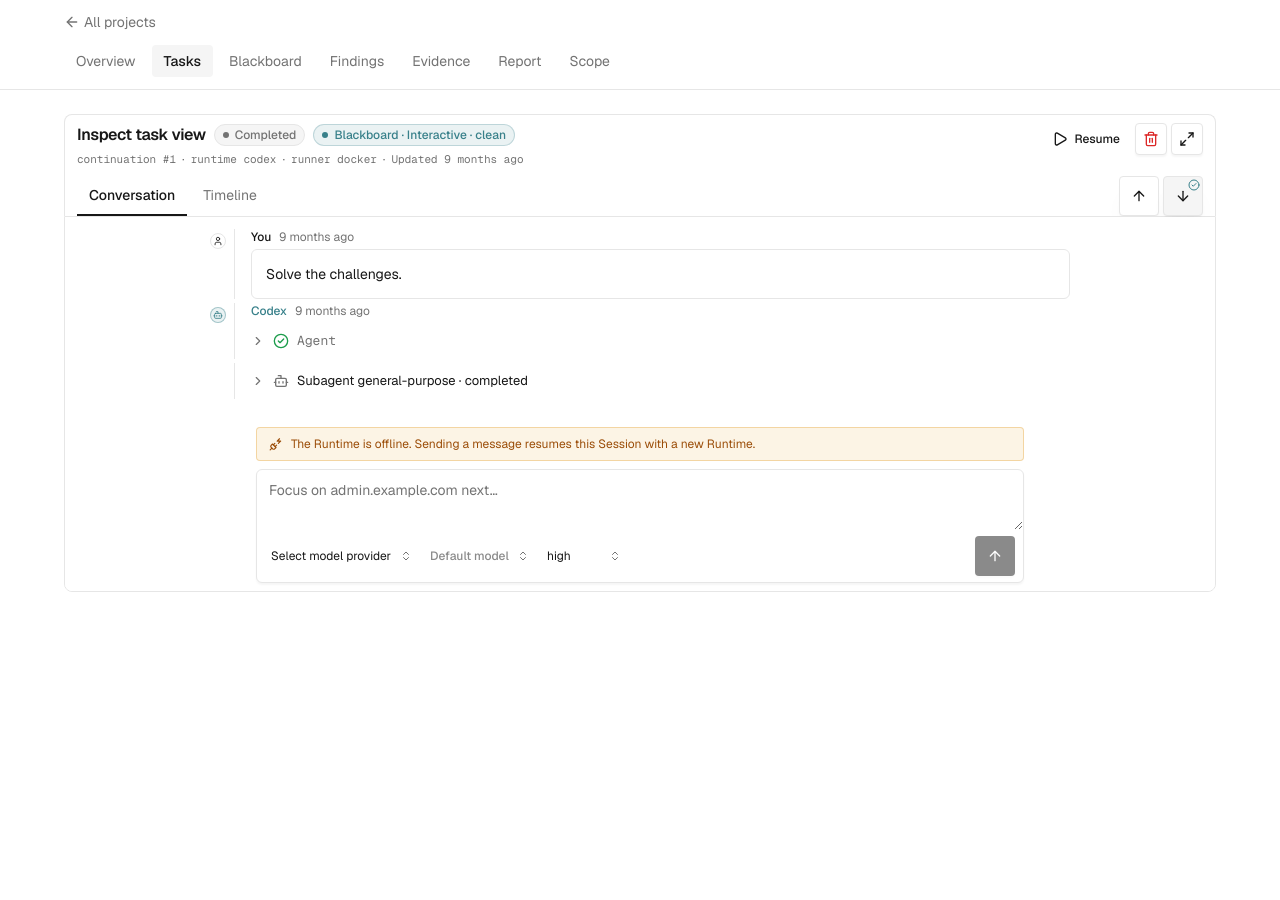
Test case: TaskDetailPage › renders a child agent as one collapsed attributed block
The image size is (1280, 900).
Expected: the text "Subagent general-purpose · completed" is shown, [297, 372, 528, 388]
Expected: the text "hugegraph exploited" is not shown
Click the heading "Subagent general-purpose · completed" at (389, 380), box [251, 372, 528, 388]
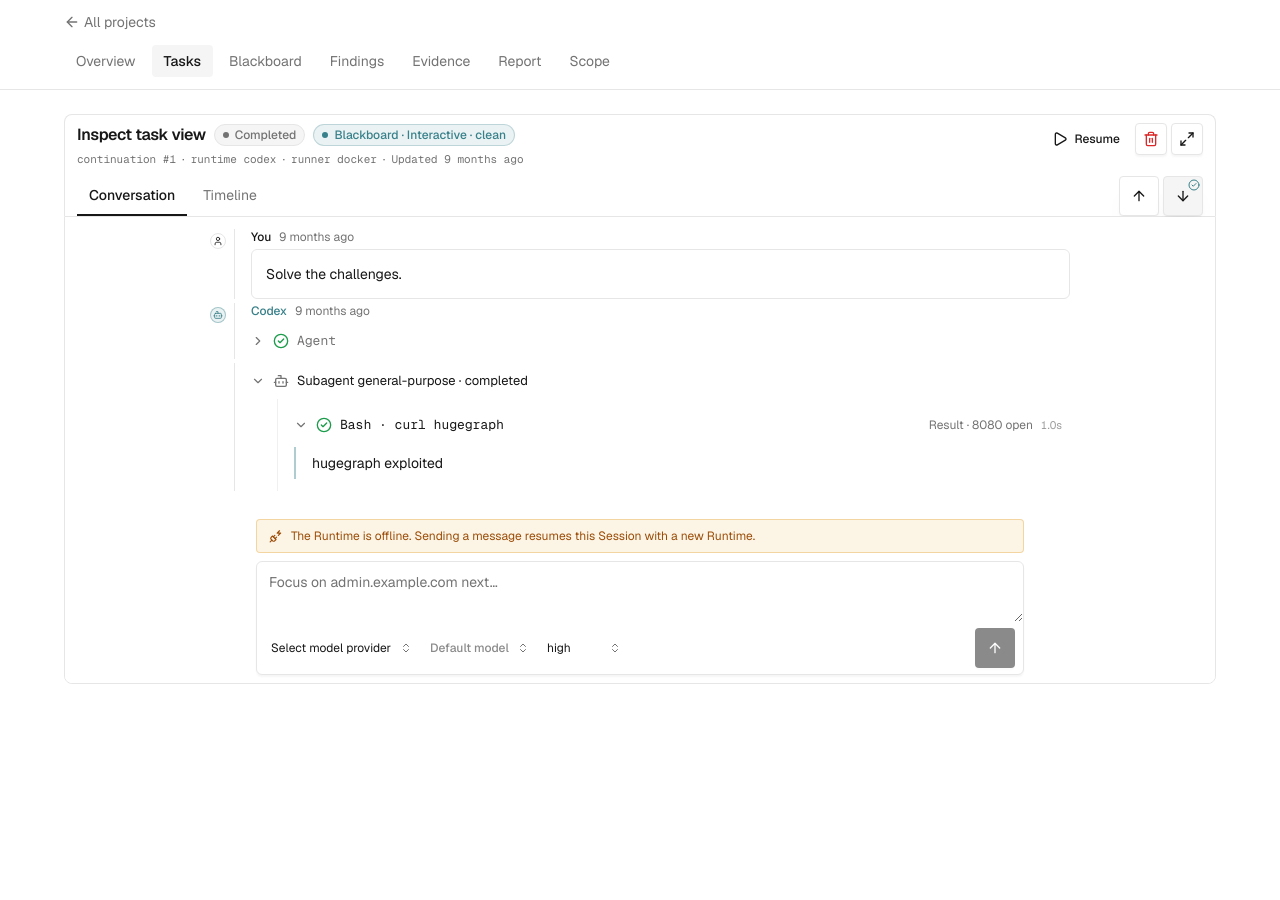
Expected: the text "hugegraph exploited" is shown, [294, 446, 1062, 478]
Expected: the text "Bash · curl hugegraph" is shown
Expected: the text "Result · 8080 open" is shown, [929, 416, 1033, 432]
Click the text "Bash · curl hugegraph" at (422, 424), box [340, 416, 504, 432]
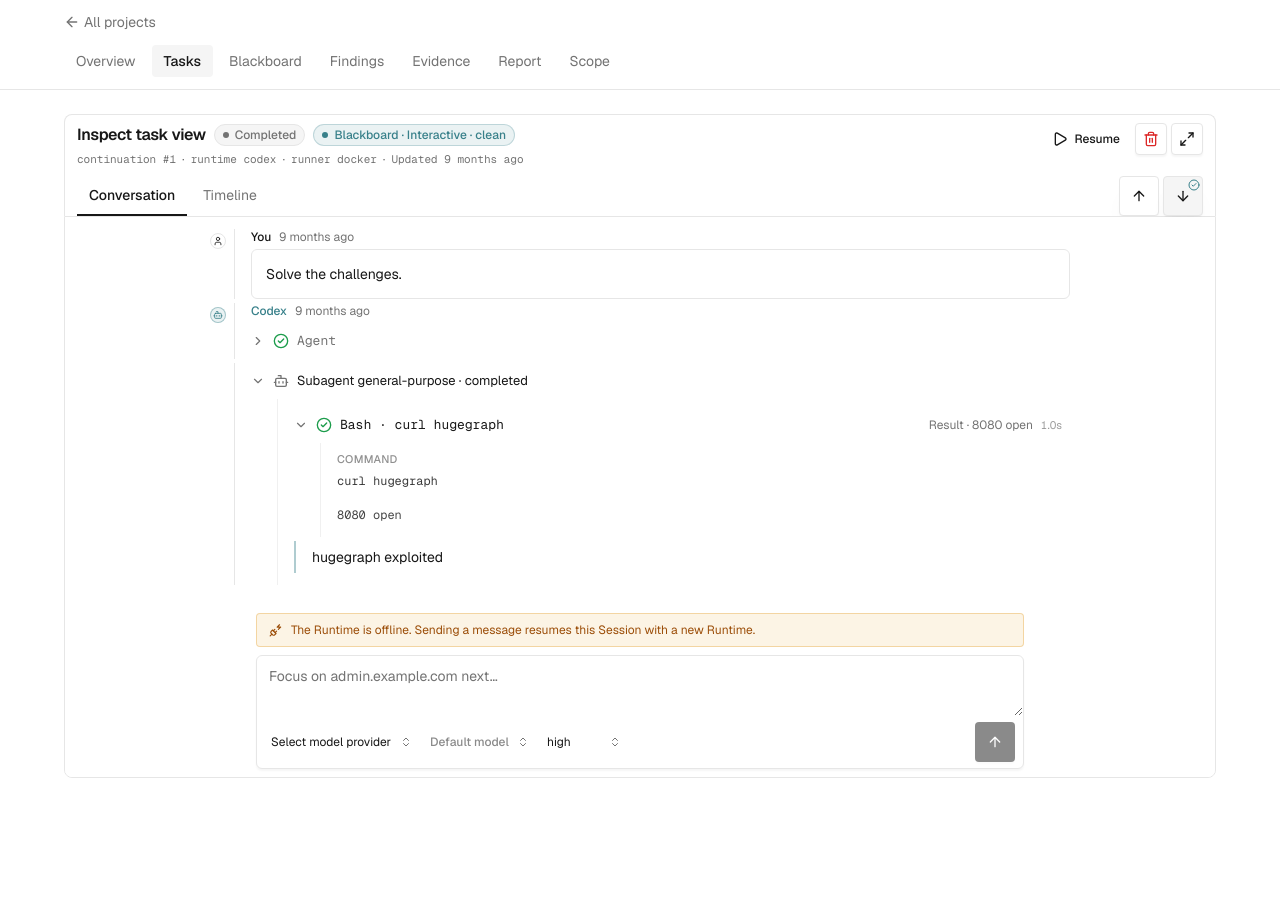
Expected: the text "curl hugegraph" is shown, [337, 473, 438, 489]
